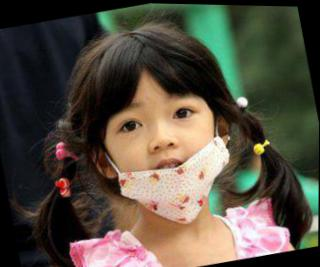WRONG: (93, 80, 233, 220)
